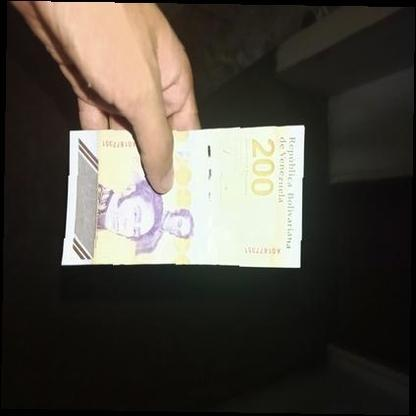two_hundred-front-vef: (60, 124, 304, 268)
